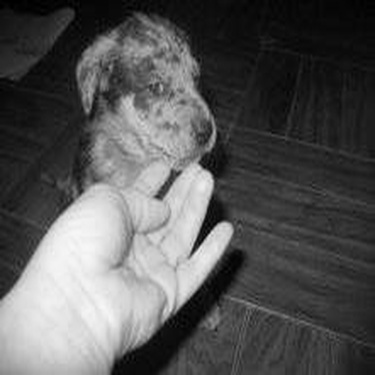dog: (26, 2, 229, 338)
